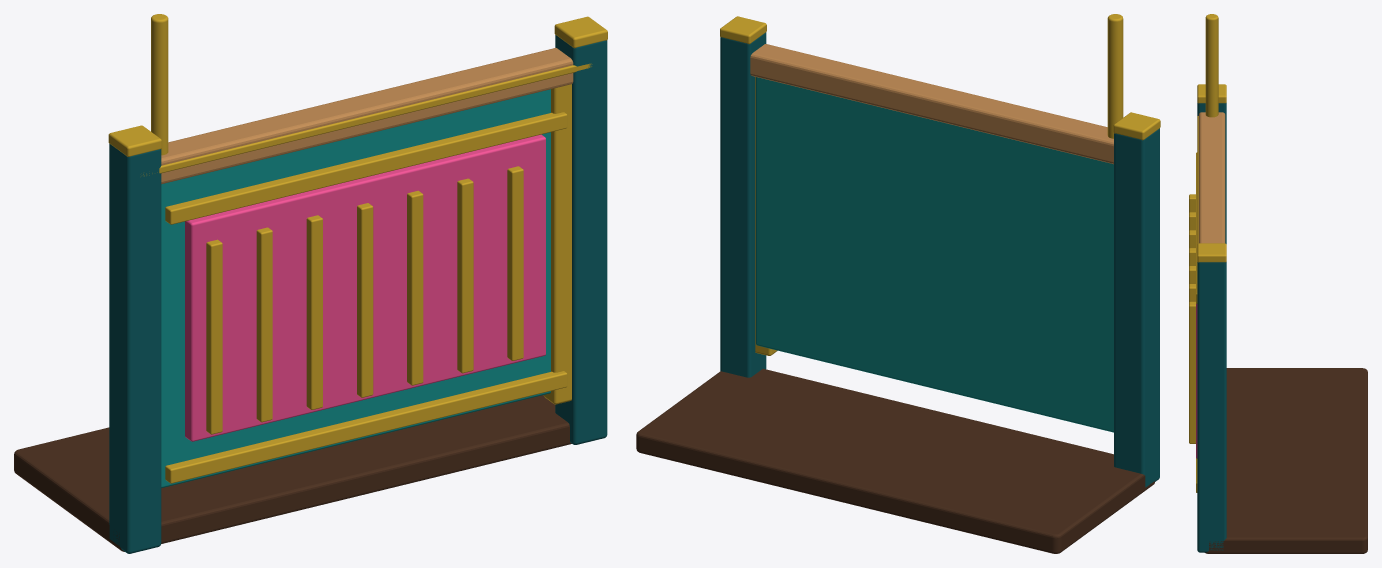
Rendered from reception-desk-gate.glb.
3 views of the same model, side by side, from view 1: azimuth 30°, elevation 25°; view 2: azimuth 150°, elevation 25°; view 3: azimuth 270°, elevation 25° (orthographic). The views are drawn at different scales.
Visible parts, largest first — view 1: leaf.colour, sill, leaf.panel, post.left, post.right, rail.top, leaf.band.low, leaf.band.high, leaf.stile, rail.top.nose, leaf.flute.4, leaf.flute.0 (+8 smaller); view 2: leaf.panel, sill, post.left, rail.top, post.right, leaf.hinge, post.left.cap, post.right.cap; view 3: sill, post.right, rail.top, leaf.hinge, leaf.flute.6, post.right.cap, post.left, post.left.cap, leaf.colour, leaf.band.high, rail.top.nose.
Boxes of the visible parts, x1,y1,x2,y2 form: leaf.colour: [185, 134, 545, 441]; sill: [14, 395, 571, 551]; leaf.panel: [161, 89, 550, 488]; post.left: [109, 143, 161, 553]; post.right: [555, 35, 607, 444]; rail.top: [161, 48, 573, 184]; leaf.band.low: [165, 371, 567, 483]; leaf.band.high: [165, 112, 567, 224]; leaf.stile: [543, 84, 571, 404]; rail.top.nose: [143, 63, 592, 176]; leaf.flute.4: [407, 190, 423, 385]; leaf.flute.0: [206, 239, 222, 434]; leaf.panel: [756, 77, 1113, 432]; sill: [636, 368, 1154, 553]; post.left: [1114, 128, 1159, 487]; rail.top: [750, 44, 1113, 164]; post.right: [720, 32, 766, 377]; leaf.hinge: [1107, 14, 1123, 138]; post.left.cap: [1113, 112, 1160, 140]; post.right.cap: [720, 16, 766, 44]; sill: [1205, 368, 1367, 553]; post.right: [1197, 262, 1226, 552]; rail.top: [1198, 112, 1225, 243]; leaf.hinge: [1205, 14, 1218, 117]; leaf.flute.6: [1189, 301, 1195, 443]; post.right.cap: [1197, 243, 1226, 262]; post.left: [1197, 103, 1226, 243]; post.left.cap: [1197, 84, 1226, 103]; leaf.colour: [1196, 303, 1197, 458]; leaf.band.high: [1196, 152, 1197, 303]; rail.top.nose: [1197, 116, 1198, 244].
Size of the model in its own units: 1.38 by 1.43 by 0.608.
